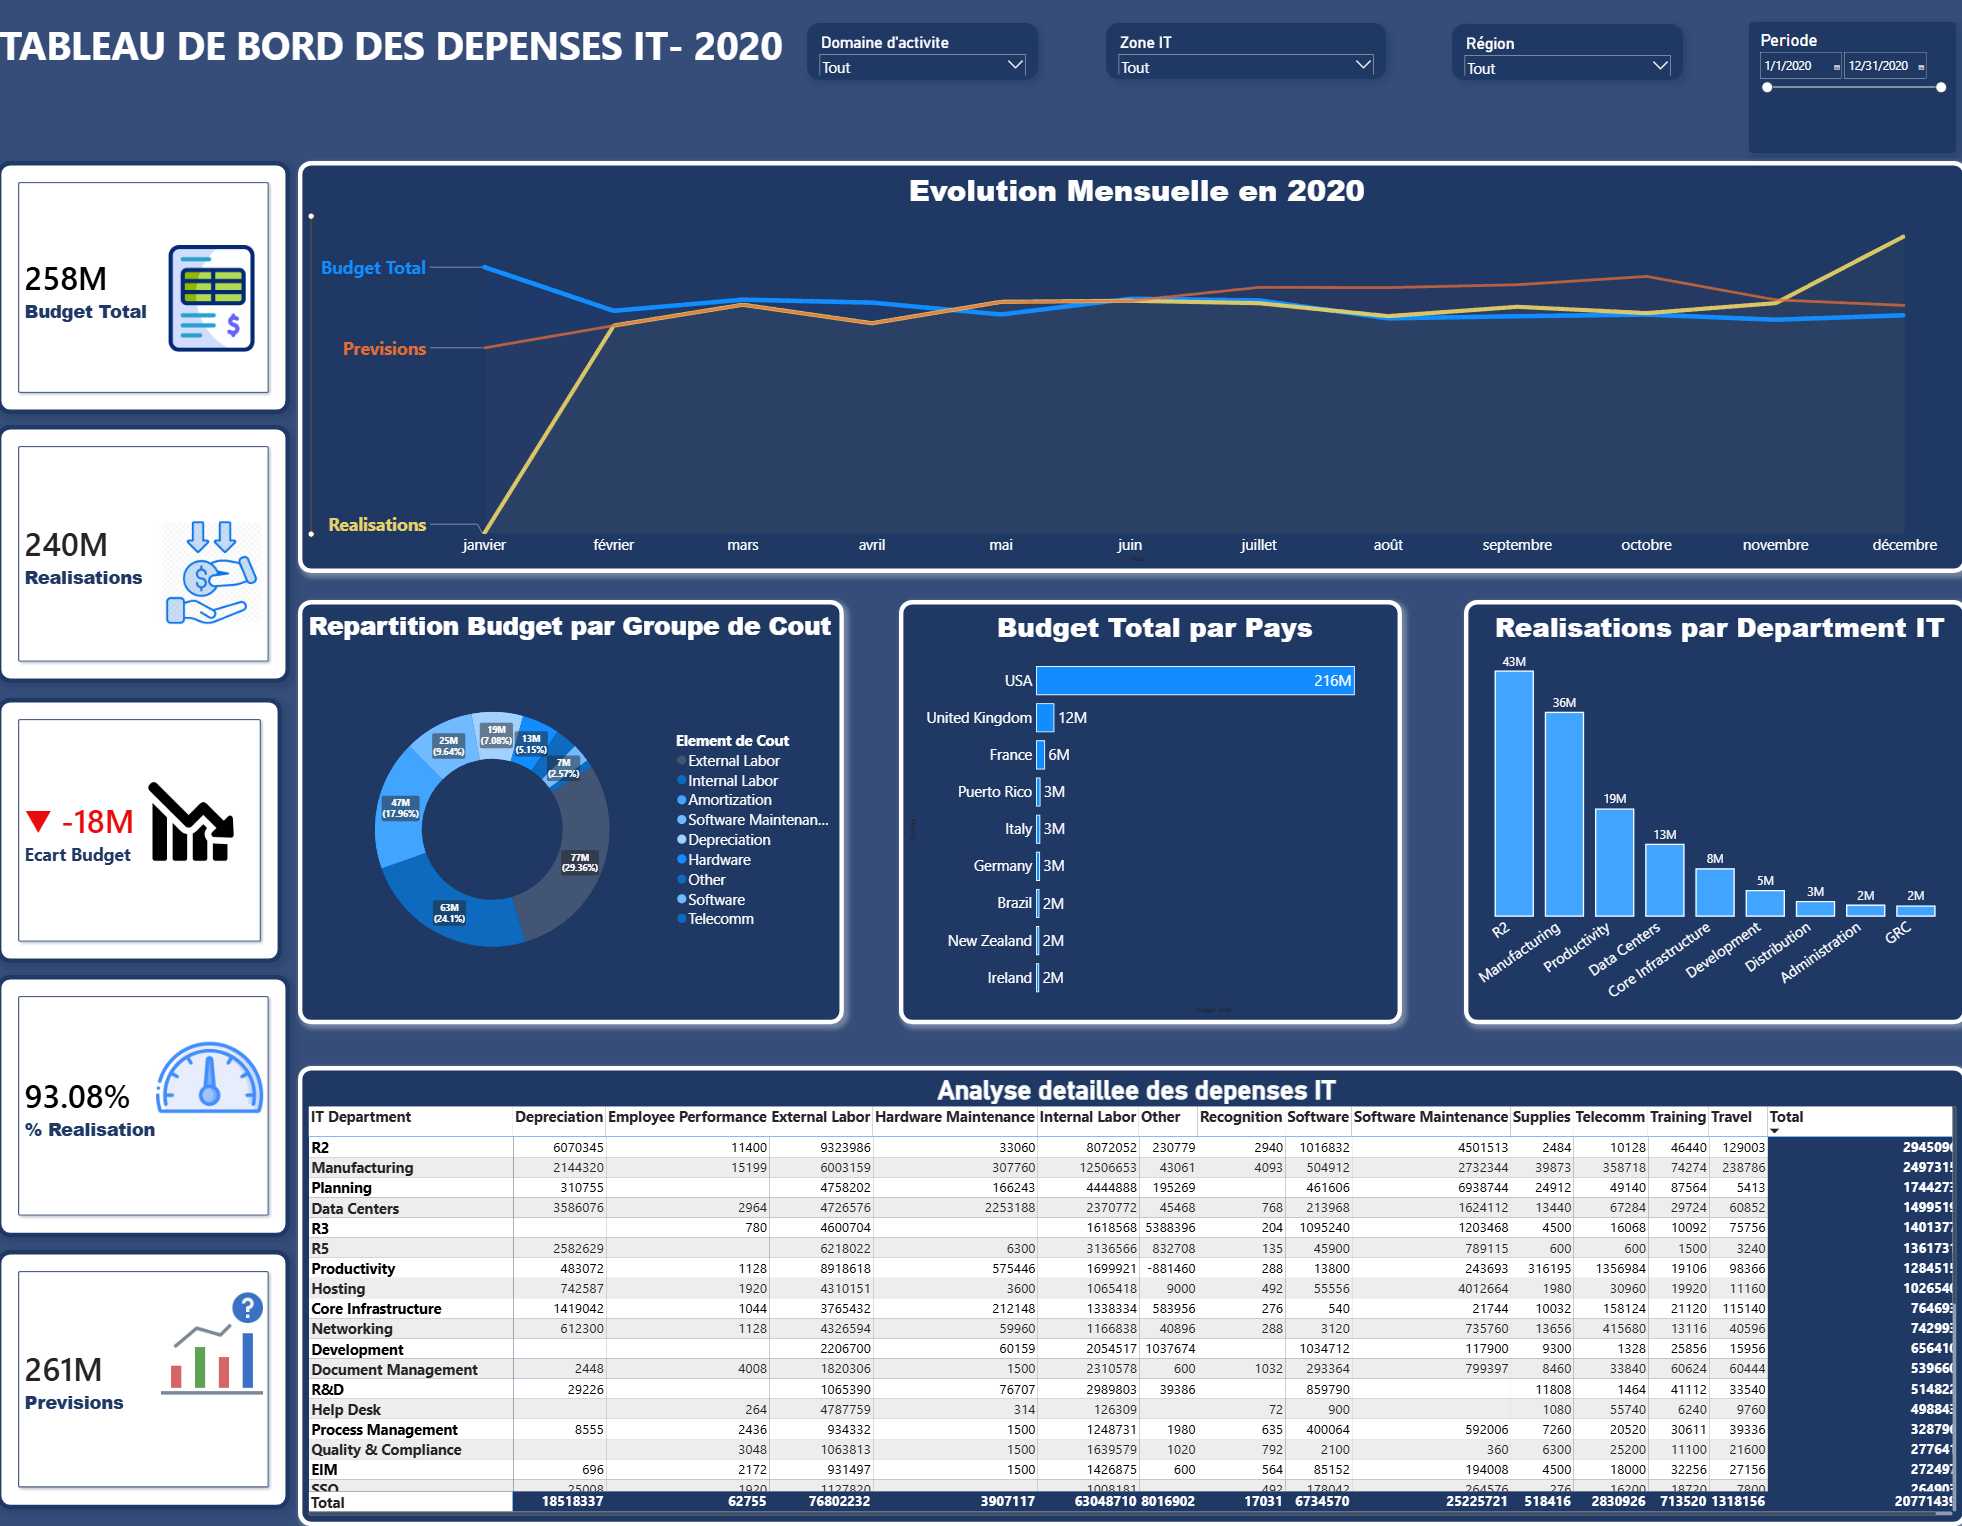

The dashboard page shown, as its layout file describes it:
{"tool":"powerbi","page":{"name":"DASHBOARD","canvas":[4500,3500],"ordinal":0},"visuals":[{"type":"cardVisual","title":"Budget Total","fields":{"Data":["Mesure.Total Budget"]},"box":[0,381.5,669.4,578],"z":0},{"type":"cardVisual","fields":{"Data":["Mesure.Total Actuals"]},"box":[0,984.7,669.4,589.4],"z":1000},{"type":"cardVisual","fields":{"Data":["Mesure.% Realisation"]},"box":[0,2241.2,669.4,598.6],"z":2000},{"type":"cardVisual","fields":{"Data":["Mesure.Total Forcats"]},"box":[0,2869.5,669.4,591.7],"z":3000},{"type":"clusteredColumnChart","title":"Realisations par Department IT","fields":{"Category":["Actuals.IT Department"],"Y":["Mesure.Total Actuals"]},"box":[3351.5,1384.5,1149.2,968.7],"z":4000},{"type":"lineChart","title":"Evolution Mensuelle en 2020","fields":{"Y":["Mesure.Total Budget","Mesure.Total Actuals","Mesure.Total Forcats"],"Category":["Calendrier.Mois"]},"box":[687.7,381.5,3813,941.3],"z":5000},{"type":"donutChart","title":"Repartition Budget par Groupe de Cout","fields":{"Category":["Dim Costs.Cost Element"],"Y":["Mesure.Total Budget"]},"box":[687.7,1384.5,1247.4,968.7],"z":6000},{"type":"clusteredBarChart","title":"Budget Total par Pays ","fields":{"Category":["Budget.Country"],"Y":["Mesure.Budget Total"]},"box":[2060.7,1384.5,1149.2,968.7],"z":7000},{"type":"pivotTable","title":"Analyse  detaillee des depenses IT","fields":{"Rows":["Dim IT.IT Department"],"Columns":["Dim Costs.Cost Element"],"Values":["Mesure.Total Budget"]},"box":[687.7,2449.1,3813,1050.9],"z":8000},{"type":"slicer","fields":{"Values":["Dim IT.IT Area"]},"box":[2533.6,66.3,639.7,127.9],"z":9000},{"type":"slicer","fields":{"Values":["Dim Costs.Business Area"]},"box":[1850.5,66.3,527.7,130.2],"z":10000},{"type":"slicer","fields":{"Values":["Dim Geography.region"]},"box":[3324.1,68.5,527.7,127.9],"z":11000},{"type":"textbox","box":[0,0,1814,331.3],"z":12000},{"type":"slicer","fields":{"Values":["Calendrier.Date"]},"box":[4002.6,64,472.9,299.3],"z":13000},{"type":"image","box":[251.3,573.4,477.5,244.5],"z":14000},{"type":"image","box":[226.2,1201.7,527.7,239.9],"z":15000},{"type":"image","box":[242.2,2353.1,486.6,244.5],"z":16000},{"type":"image","box":[173.6,2958.6,635.1,249],"z":17000},{"type":"cardVisual","fields":{"Data":["Mesure.Variance KPI"]},"box":[0,1608.4,651.1,605.4],"z":19000},{"type":"image","box":[198.8,1793.4,488.9,194.2],"z":20000}]}

Visuals, with their boxes in screenshot pixels (x1, y1, x2, y2), scaled from the page's 4500x3500 canvas onto the 1962x1526 screenshot:
"Budget Total" cardVisual: bbox=[0, 166, 292, 418]
cardVisual - Mesure.Total Actuals: bbox=[0, 429, 292, 686]
cardVisual - Mesure.% Realisation: bbox=[0, 977, 292, 1238]
cardVisual - Mesure.Total Forcats: bbox=[0, 1251, 292, 1509]
"Realisations par Department IT" clusteredColumnChart: bbox=[1461, 604, 1961, 1026]
"Evolution Mensuelle en 2020" lineChart: bbox=[300, 166, 1961, 577]
"Repartition Budget par Groupe de Cout" donutChart: bbox=[300, 604, 844, 1026]
"Budget Total par Pays " clusteredBarChart: bbox=[898, 604, 1400, 1026]
"Analyse  detaillee des depenses IT" pivotTable: bbox=[300, 1068, 1961, 1525]
slicer - Dim IT.IT Area: bbox=[1105, 29, 1384, 85]
slicer - Dim Costs.Business Area: bbox=[807, 29, 1037, 86]
slicer - Dim Geography.region: bbox=[1449, 30, 1679, 86]
textbox: bbox=[0, 0, 791, 144]
slicer - Calendrier.Date: bbox=[1745, 28, 1951, 158]
image: bbox=[110, 250, 318, 357]
image: bbox=[99, 524, 329, 629]
image: bbox=[106, 1026, 318, 1133]
image: bbox=[76, 1290, 353, 1399]
cardVisual - Mesure.Variance KPI: bbox=[0, 701, 284, 965]
image: bbox=[87, 782, 300, 867]
